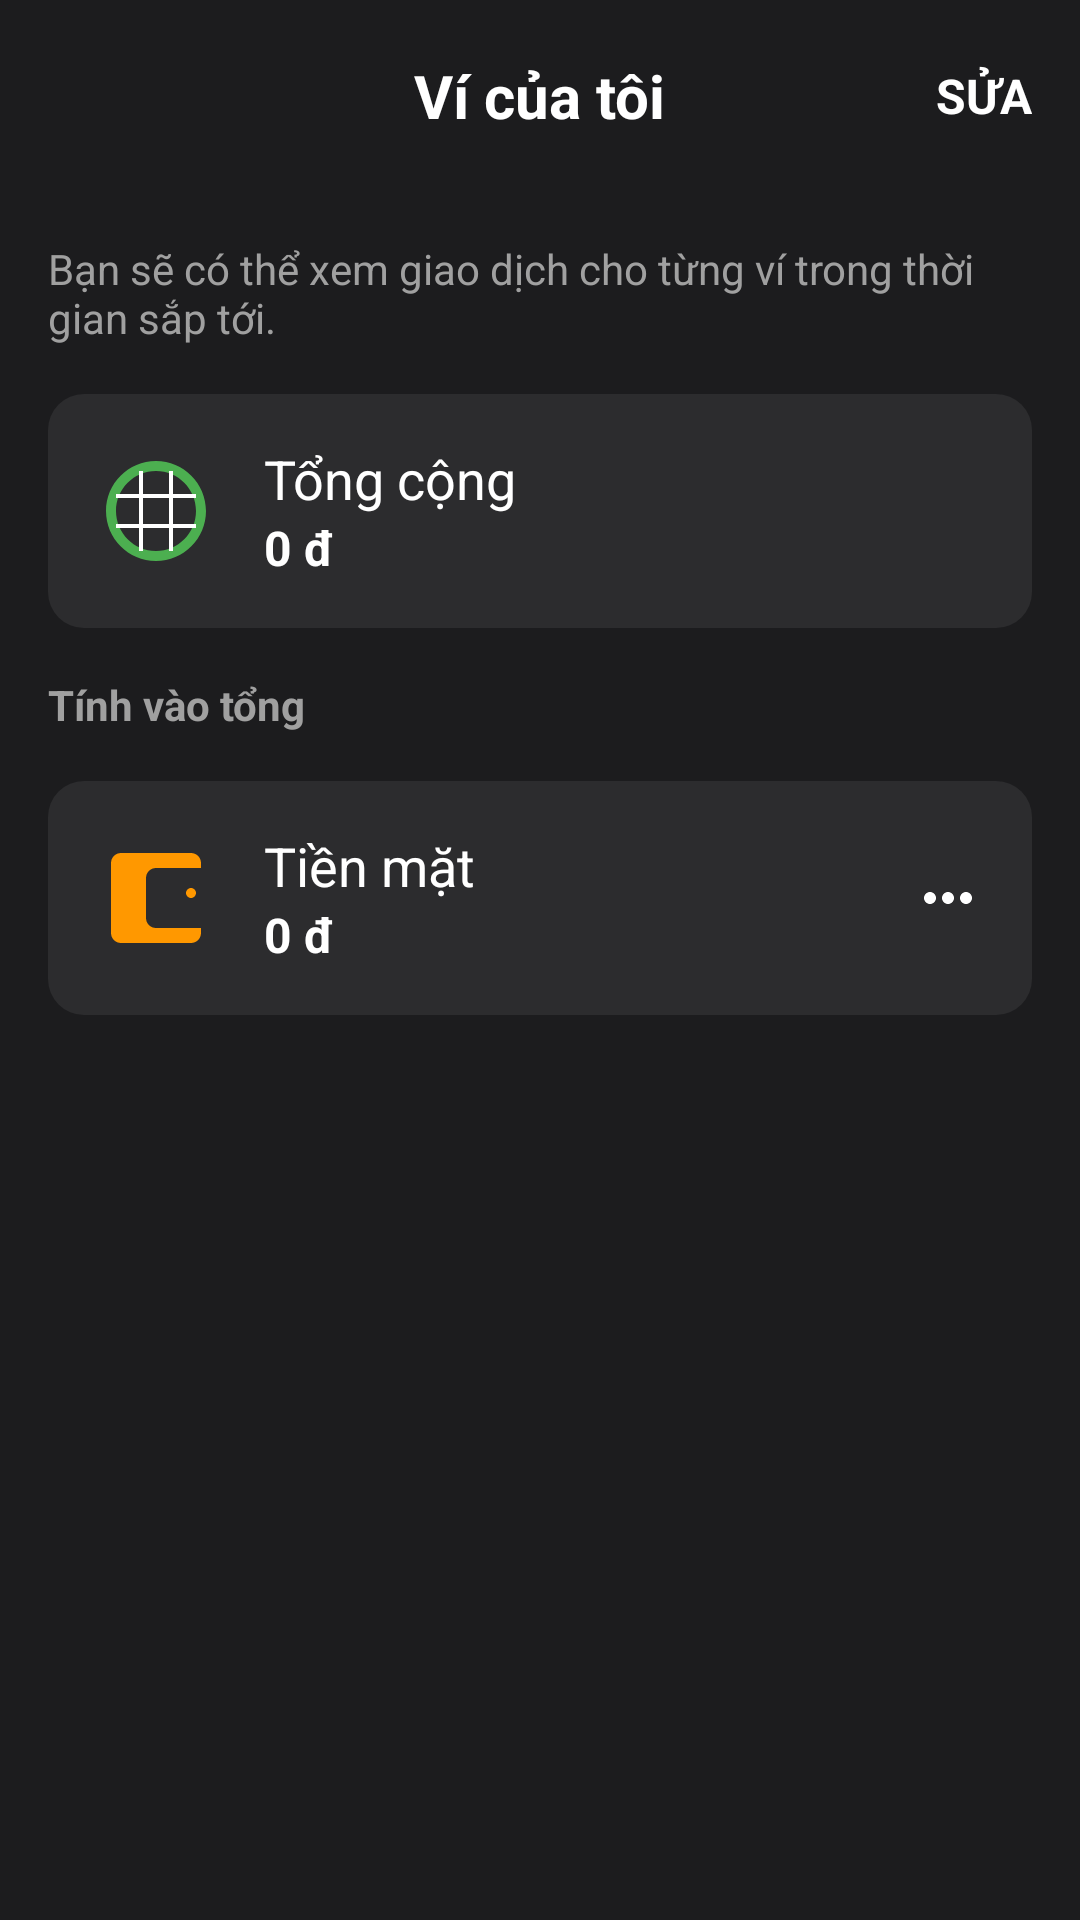

Point at icon controls on the screen. Image size 1080×1920, points as point (x, y).
cash wallet: point (156, 898)
more horiz: point (948, 898)
